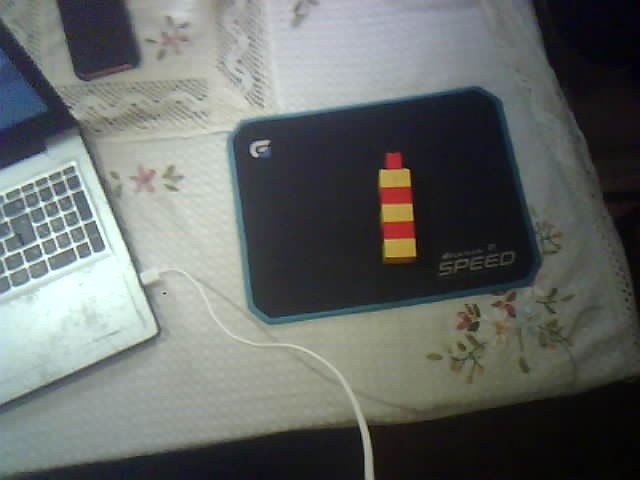lego: (377, 151, 417, 265)
